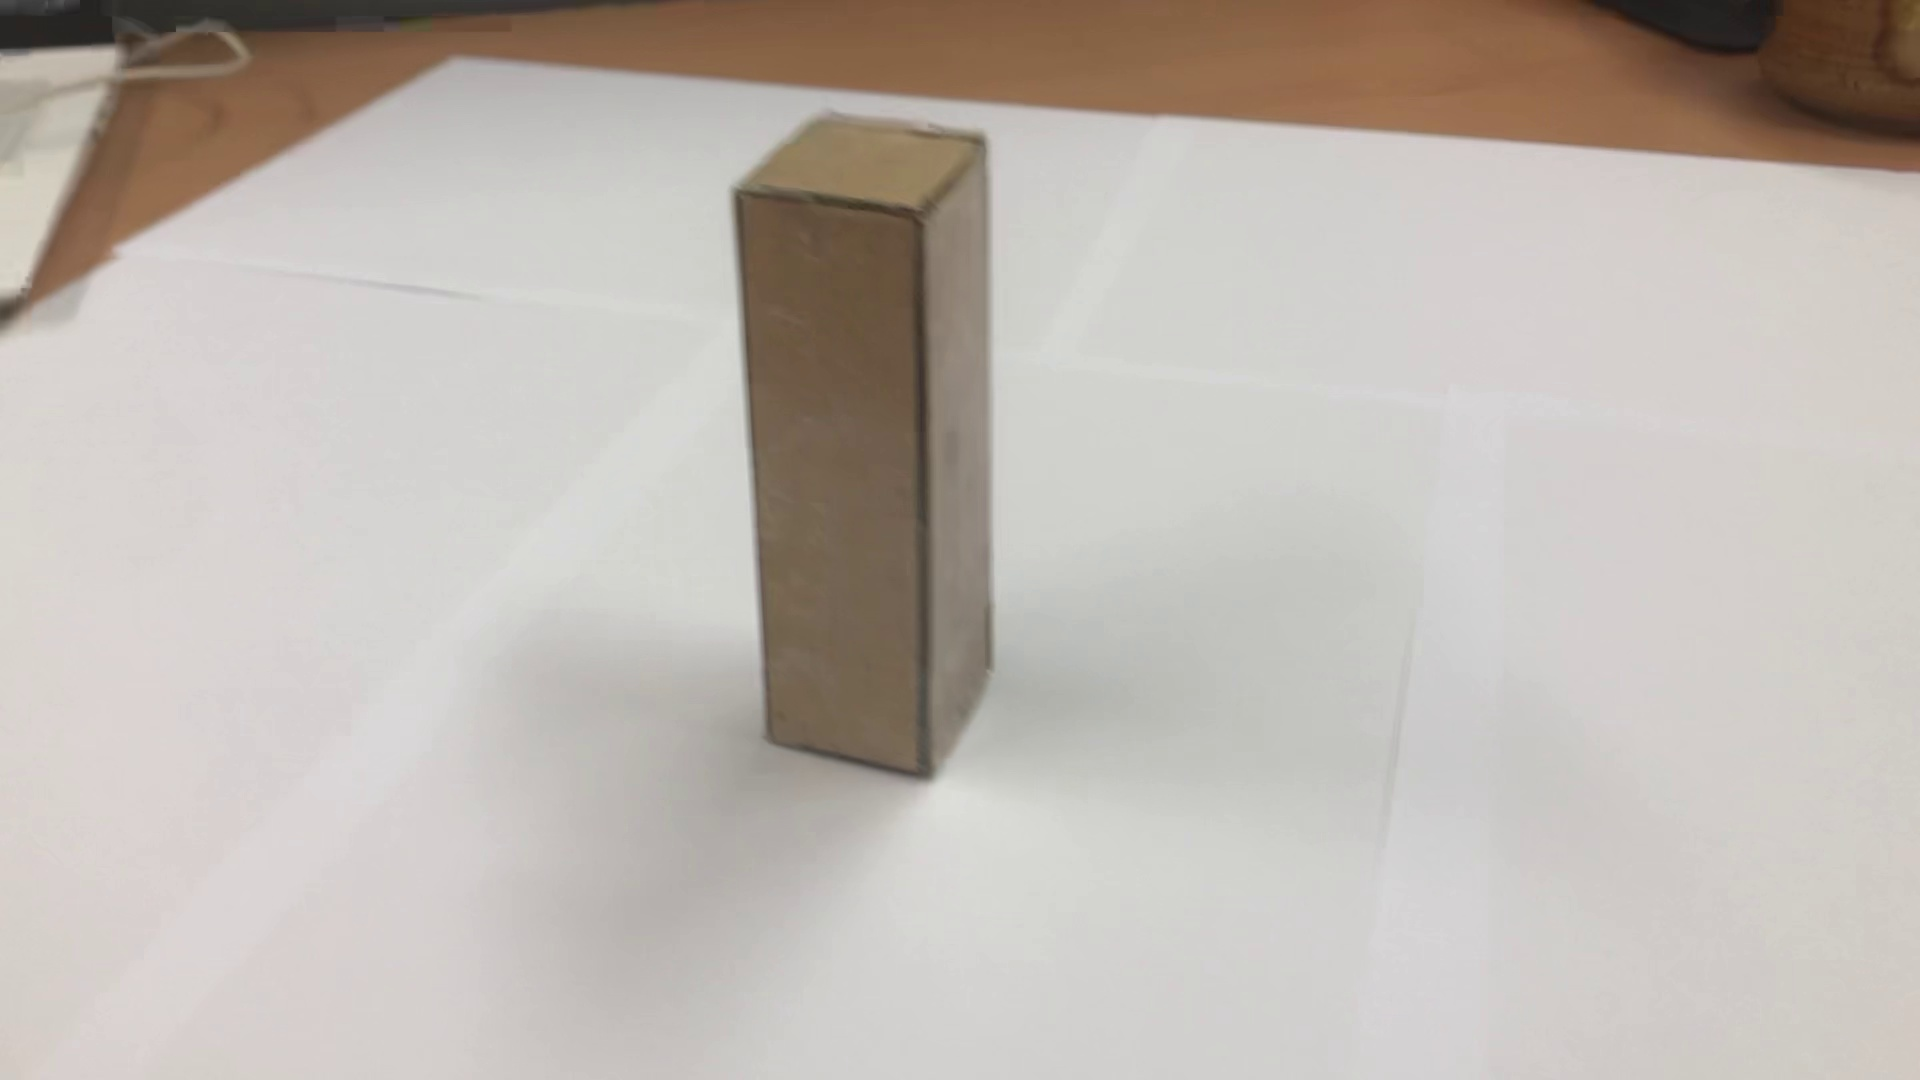box: (688, 102, 1059, 793)
